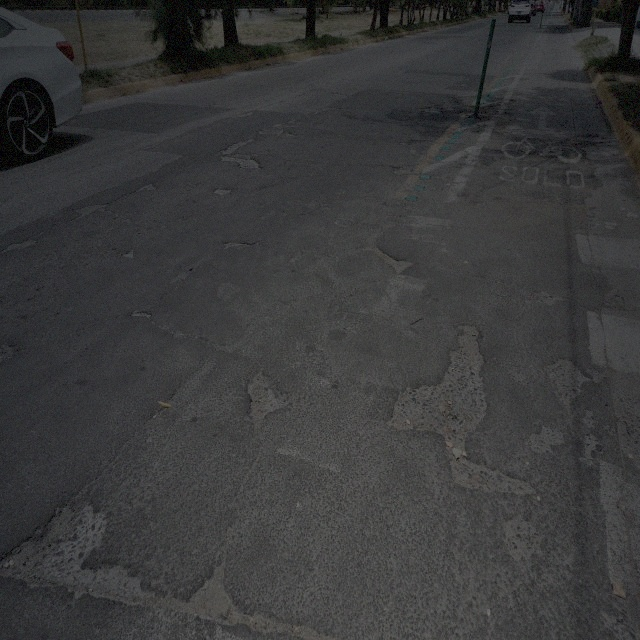pothole: (386, 308, 539, 502), (2, 494, 148, 609), (183, 560, 243, 621), (543, 352, 590, 421), (246, 366, 285, 439), (359, 243, 414, 281), (528, 426, 564, 452), (3, 234, 38, 257), (534, 287, 569, 310), (222, 136, 255, 159), (74, 198, 108, 220), (170, 262, 194, 288), (224, 156, 262, 172), (258, 122, 295, 138), (222, 238, 251, 252), (136, 178, 158, 196), (1, 341, 14, 363), (129, 310, 152, 322), (120, 246, 135, 260), (214, 188, 232, 196)
